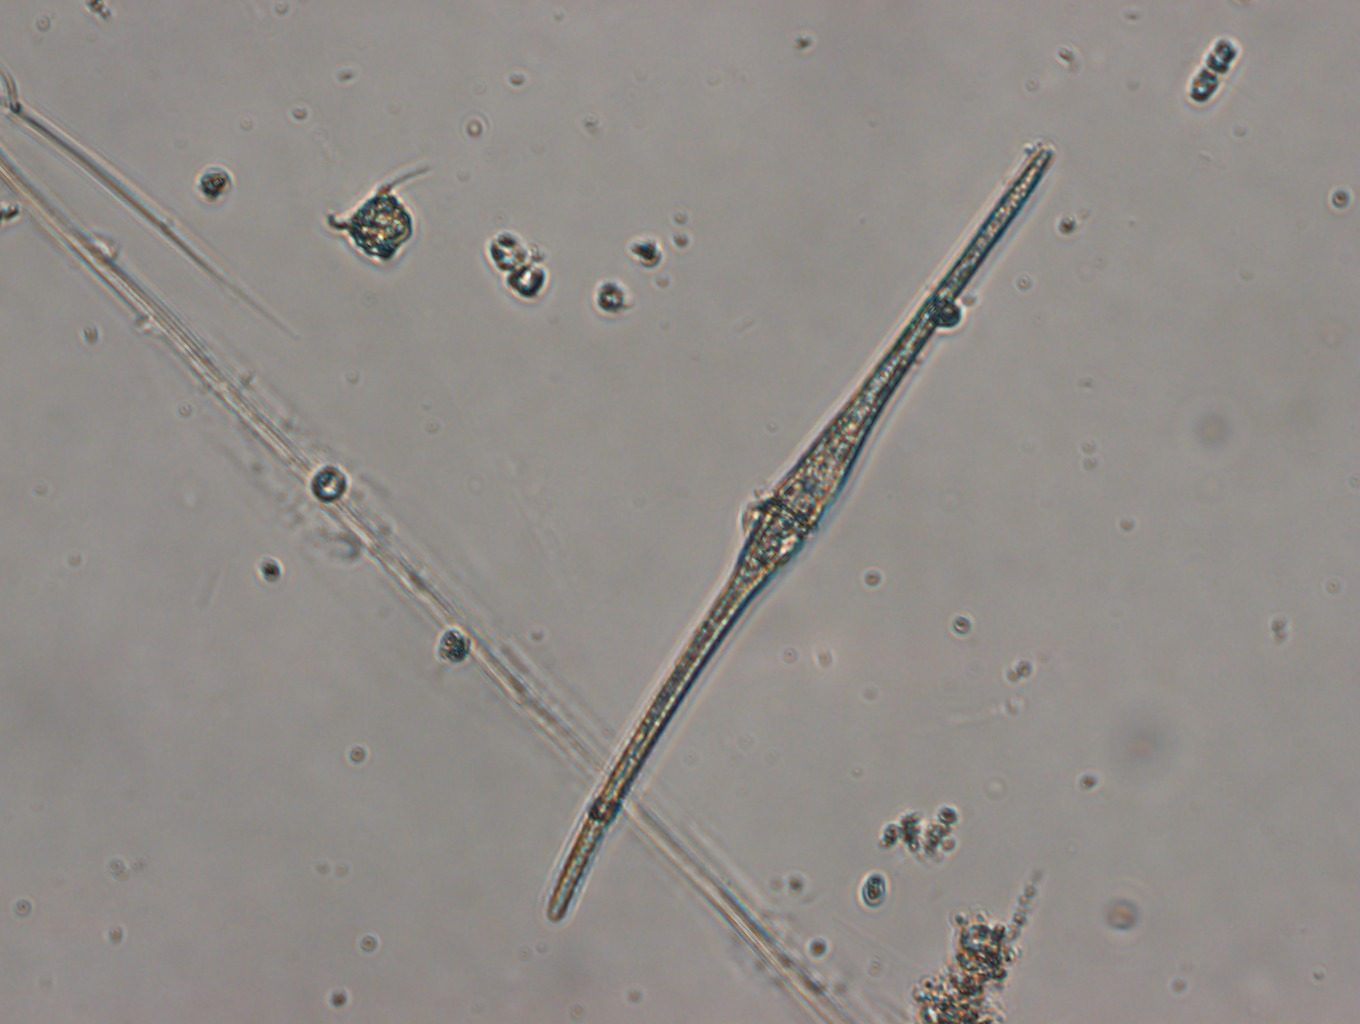ceratium fusus: (544, 141, 1057, 927)
